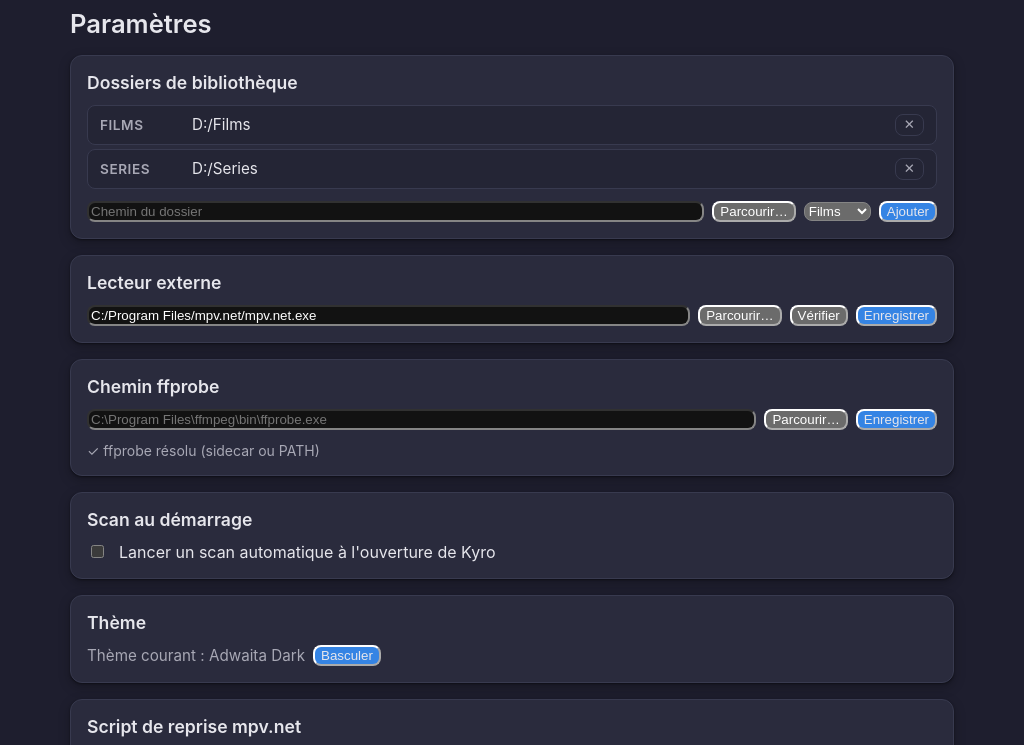
/settings — section Lecteur externe › le bouton Vérifier appelle setExternalPlayerPath et affiche succès (req. 10.3)
Click the button with test id "verify-external-player".
click(819, 316)  # box [790,305,848,326]
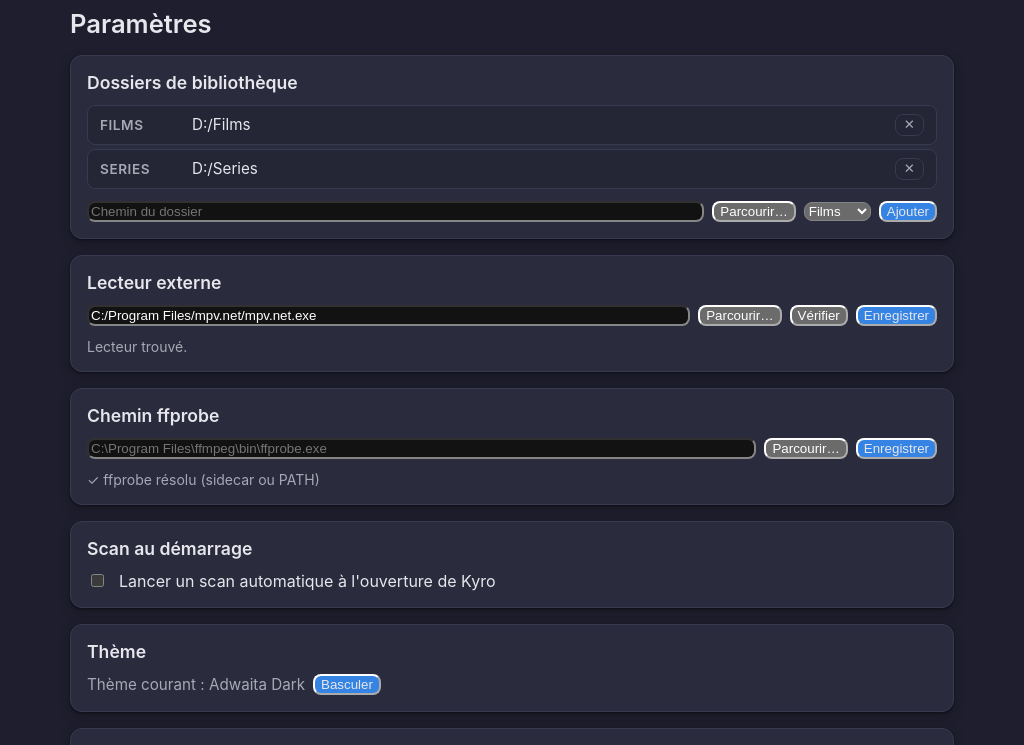
Check: the message with test id "external-player-status" shows "Lecteur trouvé", box [87,338,187,355]
